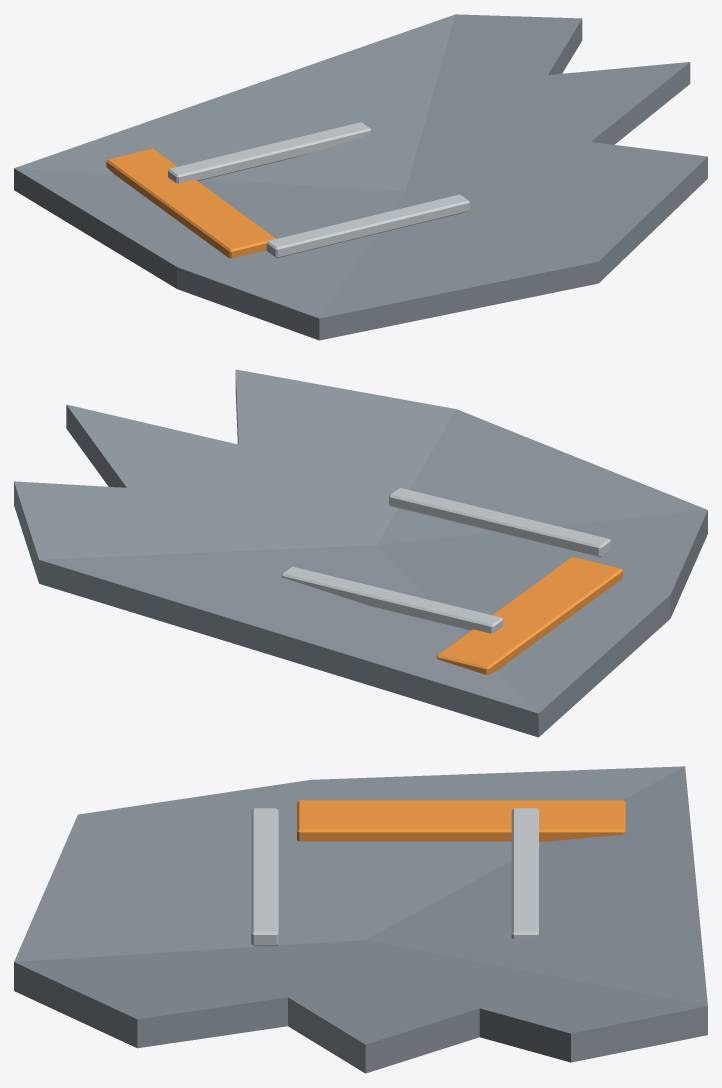
Rendered from 01_torn_sheet.glb.
The picture shows the model from 3 angles, top to bottom: view 1: azimuth 30°, elevation 25°; view 2: azimuth 150°, elevation 25°; view 3: azimuth 270°, elevation 25°; orthographic projection. The views are drawn at different scales.
Parts seen in each view (by area): view 1: 01_torn_sheet; view 2: 01_torn_sheet; view 3: 01_torn_sheet.
Part boxes in pixels (x1,y1,x2,y2): 01_torn_sheet: (14, 14, 707, 340); 01_torn_sheet: (14, 369, 707, 737); 01_torn_sheet: (14, 766, 707, 1073).
Size of the model in its own units: 1.85 by 0.26 by 1.52.
